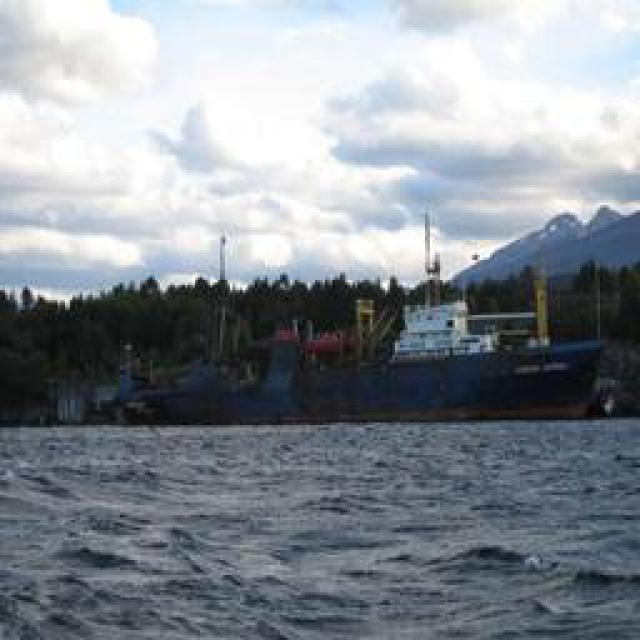Ship: (124, 339, 607, 422)
